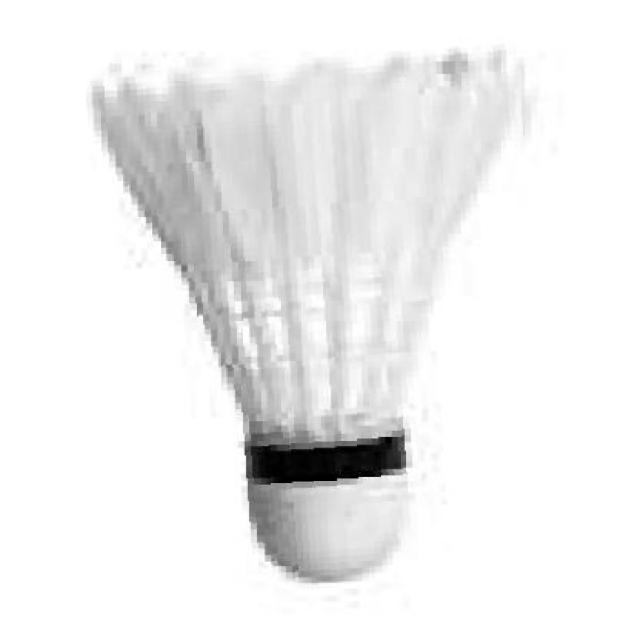Shuttlecock: (94, 49, 546, 591)
